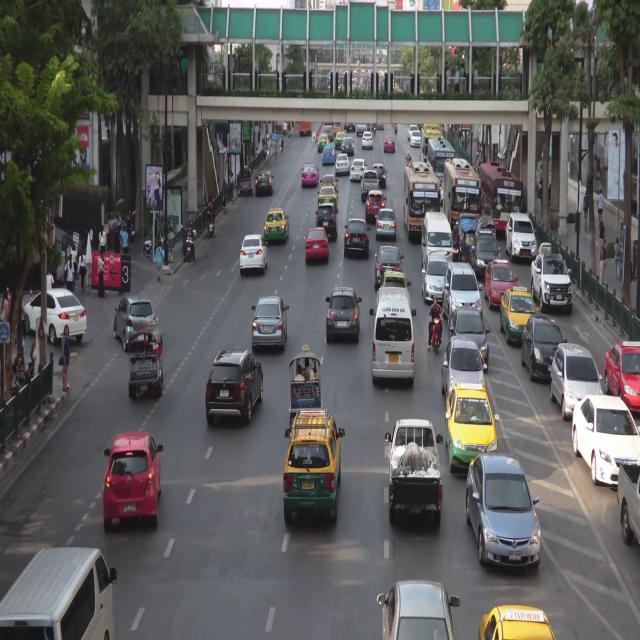bus: (479, 161, 521, 232), (445, 161, 480, 245), (404, 164, 439, 244), (427, 139, 453, 201), (422, 127, 445, 181)
car: (2, 545, 115, 640), (468, 457, 542, 572), (388, 418, 444, 531), (576, 394, 640, 489), (105, 429, 160, 529), (207, 346, 266, 424), (383, 582, 455, 640), (551, 342, 602, 422), (373, 291, 415, 386), (22, 291, 88, 343), (127, 325, 166, 396), (444, 344, 487, 406), (444, 261, 482, 331), (531, 253, 572, 314), (112, 294, 158, 348), (524, 317, 563, 378), (287, 352, 323, 417), (451, 309, 488, 367), (617, 460, 640, 546), (254, 297, 287, 351), (326, 286, 358, 341), (422, 216, 452, 267), (422, 255, 453, 300), (506, 212, 533, 259), (474, 232, 502, 276), (375, 244, 402, 286), (240, 234, 268, 273), (344, 216, 369, 259), (458, 217, 477, 265), (306, 228, 329, 262), (318, 205, 338, 238), (377, 209, 397, 241), (366, 190, 385, 222), (361, 170, 381, 200), (256, 171, 275, 196), (372, 161, 387, 189), (351, 157, 367, 182), (478, 216, 497, 237), (239, 170, 253, 196), (320, 176, 338, 194), (336, 154, 350, 174), (342, 137, 354, 155), (362, 130, 373, 149), (411, 130, 421, 148), (324, 124, 334, 142), (357, 121, 367, 135), (440, 180, 445, 206), (333, 123, 343, 135), (346, 122, 356, 133), (409, 124, 416, 139)
pedestrian: (60, 323, 70, 394), (97, 249, 105, 297), (599, 239, 606, 285), (66, 255, 74, 294), (79, 249, 86, 293), (156, 241, 163, 283), (613, 235, 620, 276), (1, 291, 8, 325), (597, 190, 604, 224), (71, 243, 77, 280), (121, 225, 128, 256), (598, 218, 605, 247), (45, 267, 53, 292), (584, 186, 589, 221), (115, 227, 121, 254), (222, 178, 227, 210), (100, 225, 105, 255), (229, 171, 234, 200), (538, 164, 543, 188), (274, 139, 278, 164), (280, 135, 284, 154), (283, 121, 287, 138), (267, 134, 270, 156), (264, 141, 267, 159), (269, 137, 272, 151), (256, 146, 259, 156)
taxi: (286, 413, 342, 527), (445, 382, 499, 475), (603, 336, 640, 411), (479, 604, 556, 640), (500, 287, 538, 350), (485, 260, 516, 310), (262, 208, 290, 246), (319, 184, 337, 212), (379, 272, 408, 289), (302, 164, 318, 186), (322, 145, 335, 165), (384, 132, 396, 153), (319, 134, 329, 152), (336, 131, 345, 148)
